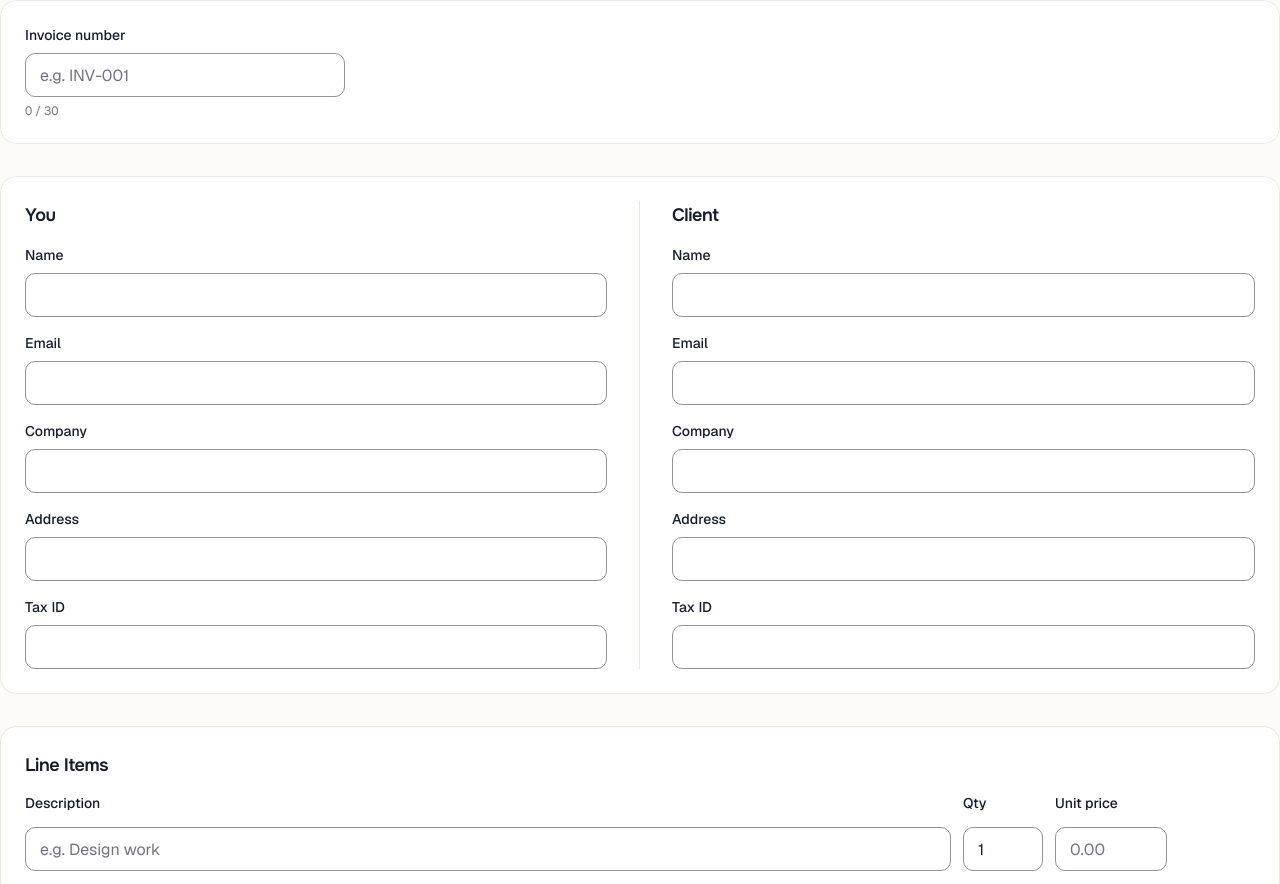
Test: InvoiceForm invoice_number (v1.4.16 — 30-char cap) › renders a live N / 30 counter that updates as the user types
The width and height of the screenshot is (1280, 884).
Expected: the text with id "counter-invoice-number" reads "0 / 30", [25,103,58,119]
In the field with id "input-invoice-number": (185, 75) [25,53,345,97], type "INV-001"
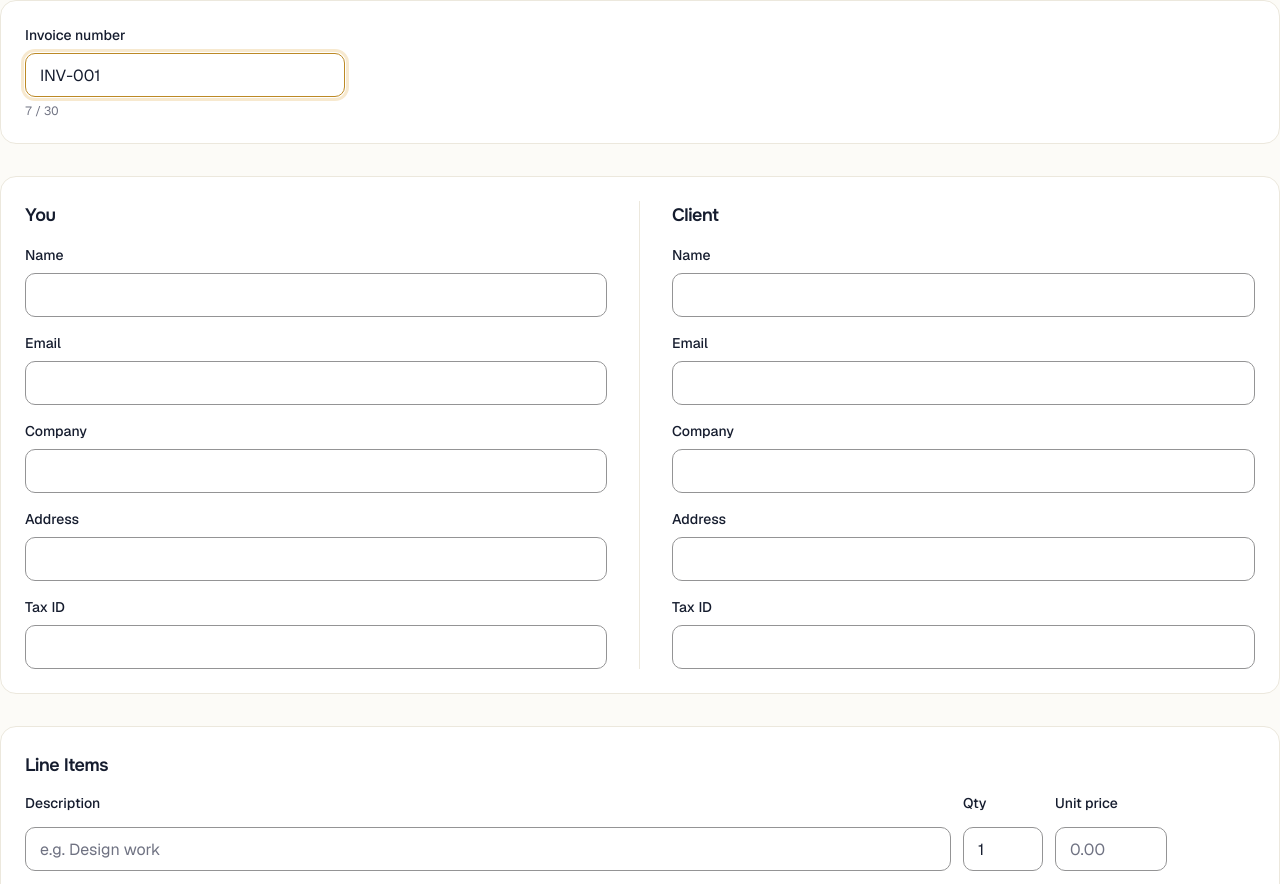
Result: the text with id "counter-invoice-number" reads "7 / 30" at [25,103,58,119]
